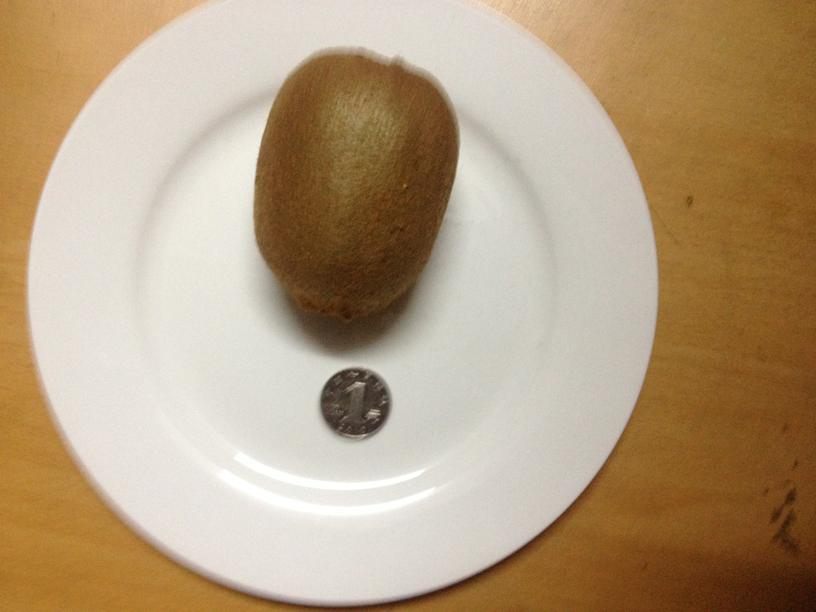coin: (320, 364, 390, 439)
qiwi: (246, 47, 458, 316)
